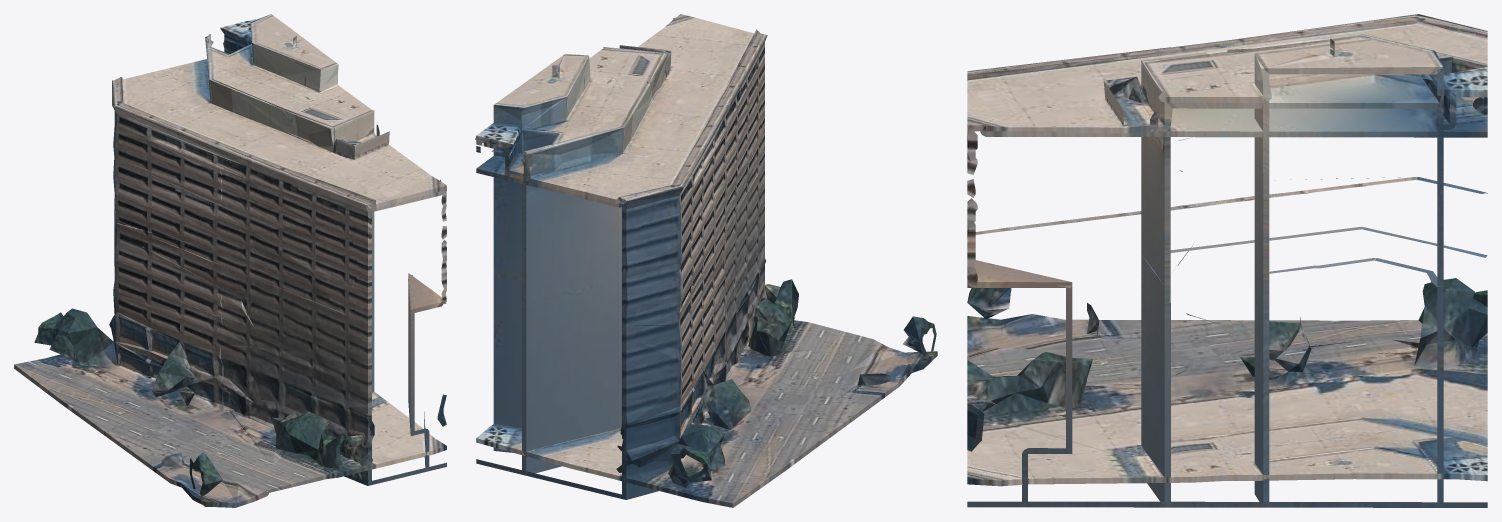
File: chunk_-5_5.glb
The picture shows the model from 3 angles, left to right: view 1: azimuth 30°, elevation 25°; view 2: azimuth 150°, elevation 25°; view 3: azimuth 270°, elevation 25°; orthographic projection. The views are drawn at different scales.
Visible parts, largest first — view 1: hero-chunk; view 2: hero-chunk; view 3: hero-chunk.
Boxes of the visible parts, bbox=[...] form: hero-chunk: bbox=[14, 14, 446, 507]; hero-chunk: bbox=[475, 14, 937, 507]; hero-chunk: bbox=[967, 14, 1487, 507].
Bounding box in the file's own units: 56.66 × 73.87 × 76.33.
Materials: 2 (2 with a texture image).
